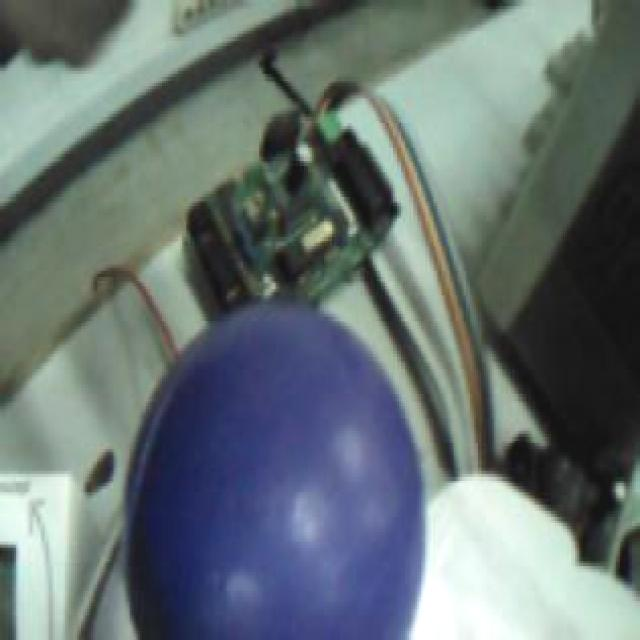BallPurple: (126, 302, 424, 640)
